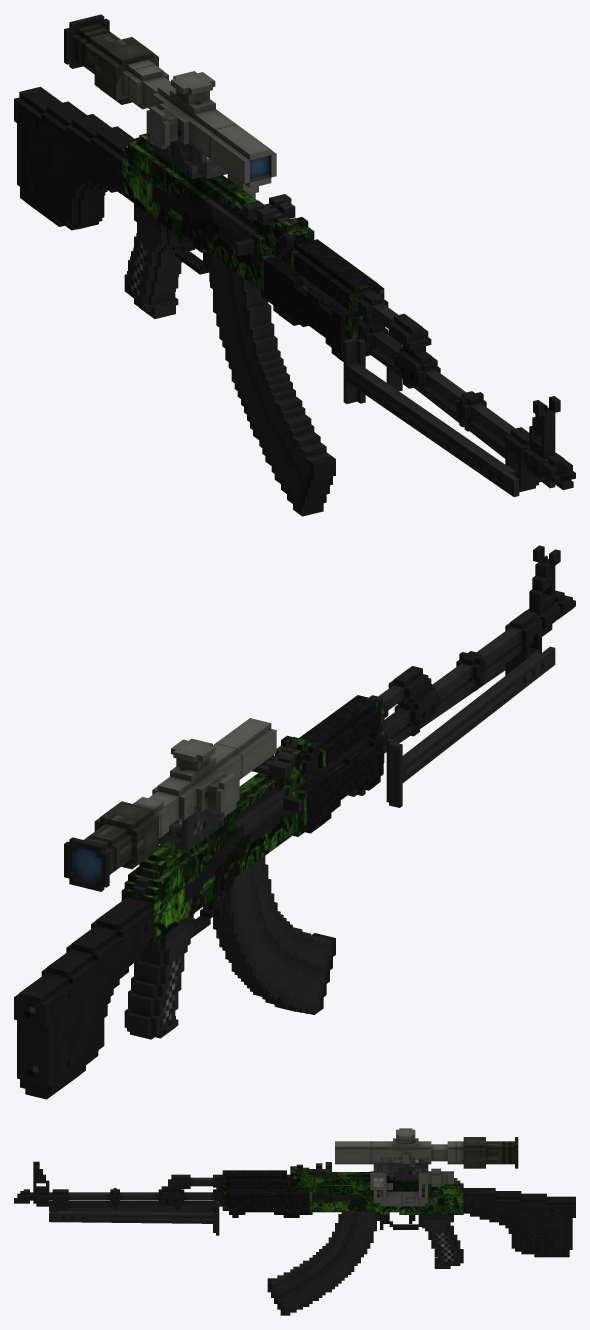
Rendered from RD_RPK_ZOMBIE.glb.
3 renders of one model, top to bottom at view 1: azimuth 30°, elevation 25°; view 2: azimuth 150°, elevation 25°; view 3: azimuth 270°, elevation 25°, orthographic. The views are drawn at different scales.
Parts seen in each view (by area): view 1: RPK, RPK_CLIP, SCOPE_PSO1, RPK_DIPOD_LEG1, SCOPE_EOTECH, RPK_DIPOD_LEG2, SCOPE_TASCO; view 2: RPK, SCOPE_PSO1, RPK_CLIP, RPK_DIPOD_LEG1, SCOPE_EOTECH; view 3: RPK, SCOPE_PSO1, RPK_CLIP, RPK_DIPOD_LEG2, RPK_DIPOD_LEG1, SCOPE_TASCO, SCOPE_EOTECH.
Boxes of the visible parts, x1,y1,x2,y2 form: RPK: [14, 86, 575, 492]; RPK_CLIP: [210, 253, 335, 516]; SCOPE_PSO1: [64, 14, 276, 198]; RPK_DIPOD_LEG1: [343, 338, 519, 496]; SCOPE_EOTECH: [155, 142, 228, 178]; RPK_DIPOD_LEG2: [386, 333, 555, 488]; SCOPE_TASCO: [164, 140, 217, 178]; RPK: [14, 545, 575, 1099]; SCOPE_PSO1: [64, 718, 276, 891]; RPK_CLIP: [213, 856, 335, 1014]; RPK_DIPOD_LEG1: [386, 646, 555, 807]; SCOPE_EOTECH: [159, 806, 218, 850]; RPK: [14, 1161, 575, 1268]; SCOPE_PSO1: [335, 1128, 518, 1206]; RPK_CLIP: [267, 1212, 379, 1315]; RPK_DIPOD_LEG2: [49, 1199, 219, 1235]; RPK_DIPOD_LEG1: [49, 1206, 212, 1212]; SCOPE_TASCO: [380, 1146, 428, 1180]; SCOPE_EOTECH: [386, 1159, 428, 1180].
Size of the model in its own units: 0.1378 by 0.6101 by 1.72.
6 materials, 6 textured.
